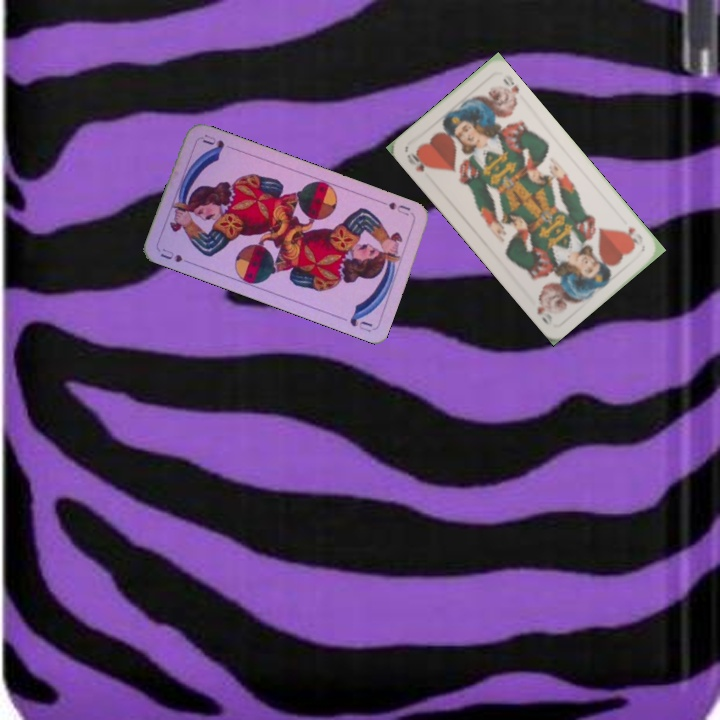HO: (403, 147, 433, 174), (618, 222, 644, 248)
SU: (156, 245, 196, 267), (376, 197, 415, 219)
